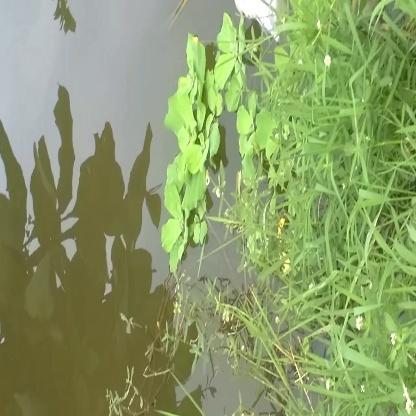leaf: (163, 166, 213, 271)
